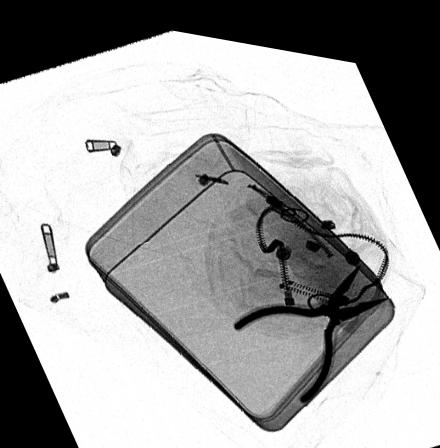Pliers: (227, 249, 390, 397)
